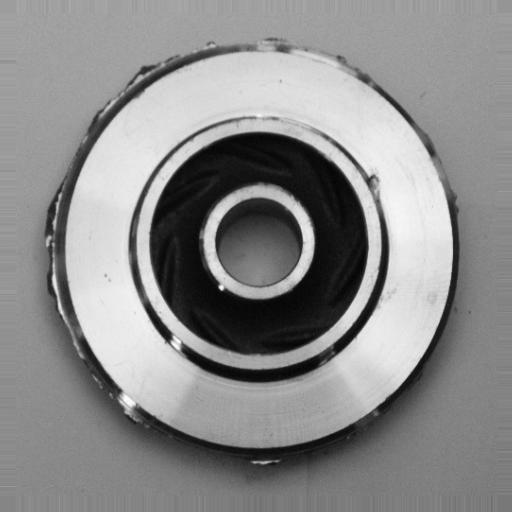casting_with_burr: (43, 35, 469, 470)
crack: (362, 161, 392, 217)
scratch: (239, 104, 328, 135), (162, 318, 202, 361)
